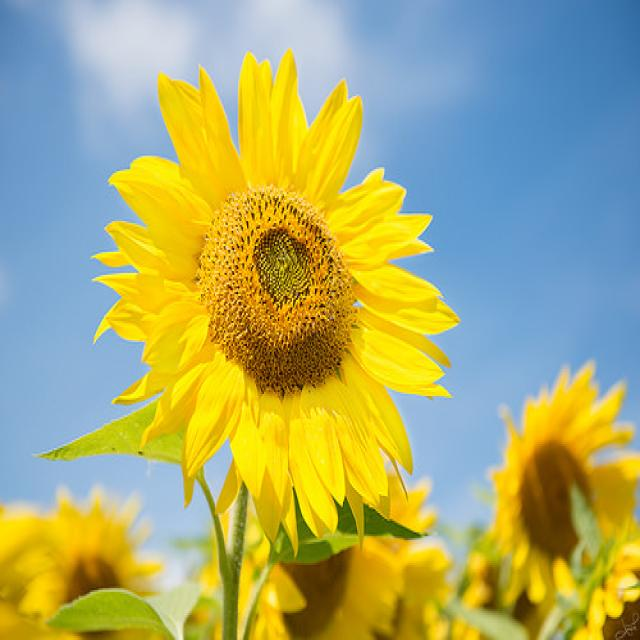sunflower: (86, 40, 470, 562), (481, 354, 640, 626), (13, 482, 174, 640)
